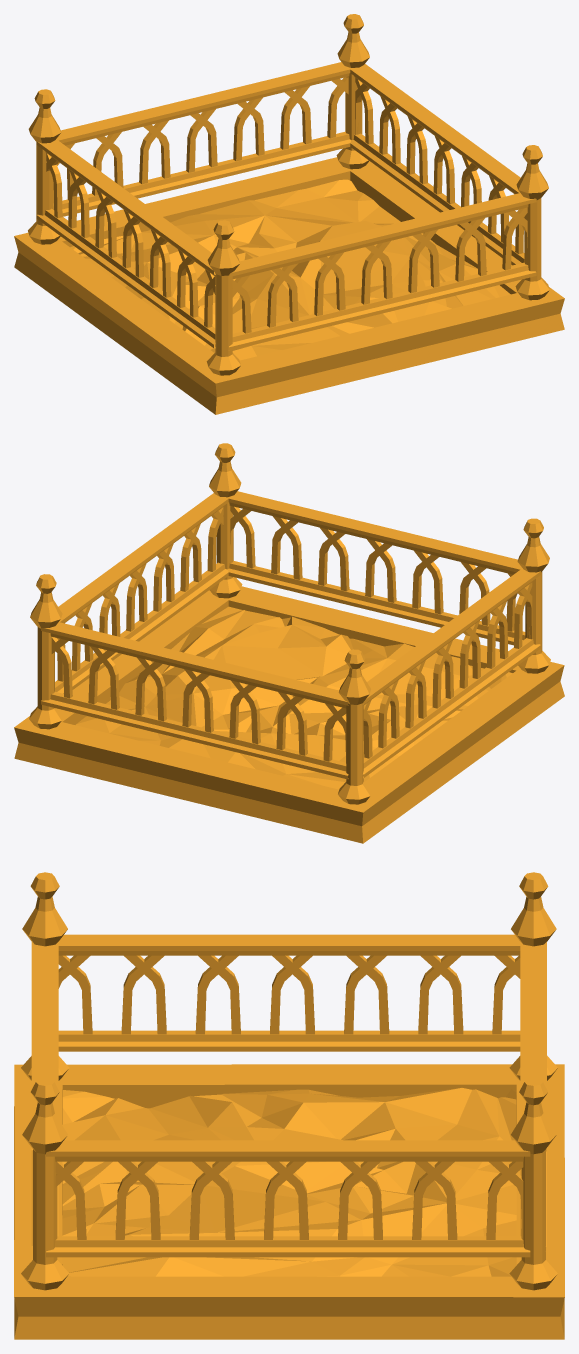
File: SM_Tree_Pot_City_B_1m.fbx
The picture shows the model from 3 angles, top to bottom: view 1: azimuth 30°, elevation 25°; view 2: azimuth 150°, elevation 25°; view 3: azimuth 270°, elevation 25°; orthographic projection. The views are drawn at different scales.
Parts seen in each view (by area): view 1: SM_Tree_Pot_City_B_1m; view 2: SM_Tree_Pot_City_B_1m; view 3: SM_Tree_Pot_City_B_1m.
Boxes of the visible parts, bbox=[...] form: SM_Tree_Pot_City_B_1m: bbox=[14, 14, 564, 414]; SM_Tree_Pot_City_B_1m: bbox=[14, 443, 564, 843]; SM_Tree_Pot_City_B_1m: bbox=[14, 872, 564, 1339].
Size of the model in its own units: 1.13 by 0.5508 by 1.13.
